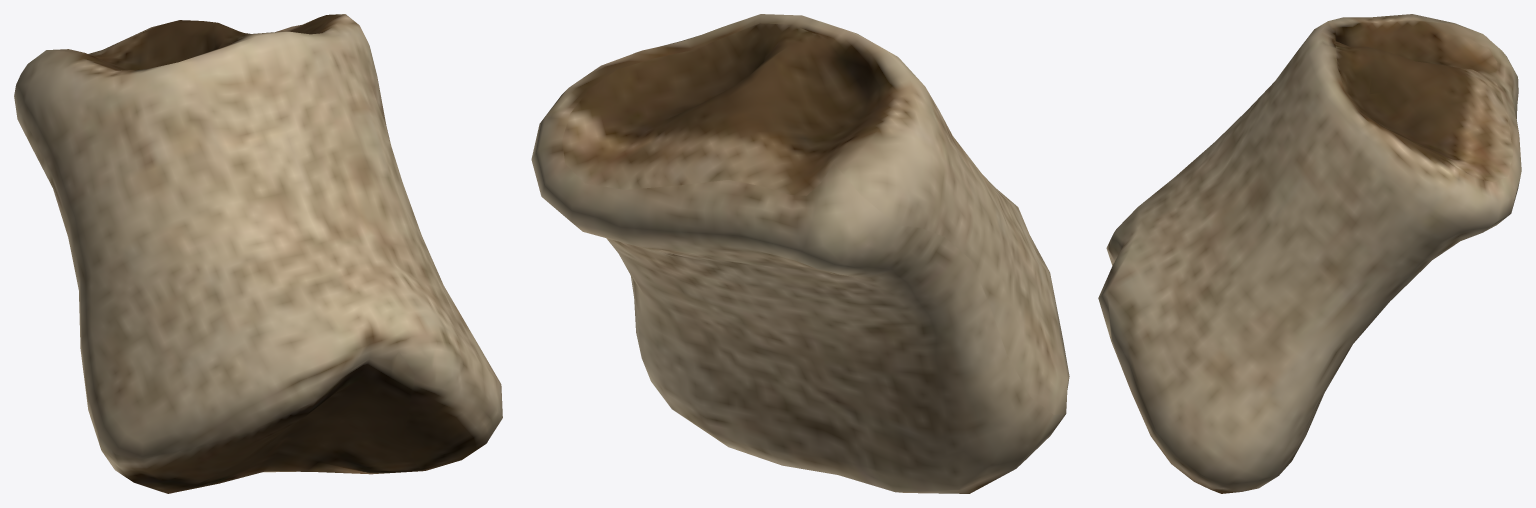
The model's file is Short_Pastern.glb.
3 views of the same model, side by side, from view 1: azimuth 30°, elevation 25°; view 2: azimuth 150°, elevation 25°; view 3: azimuth 270°, elevation 25° (orthographic). The views are drawn at different scales.
Parts seen in each view (by area): view 1: L_Frt_Short_Pastern; view 2: L_Frt_Short_Pastern; view 3: L_Frt_Short_Pastern.
Part boxes in pixels (x1,y1,x2,y2): L_Frt_Short_Pastern: [14, 14, 502, 493]; L_Frt_Short_Pastern: [531, 14, 1069, 493]; L_Frt_Short_Pastern: [1098, 14, 1521, 493].
Size of the model in its own units: 0.0551 by 0.06 by 0.0586.
Materials: 1 (1 with a texture image).
